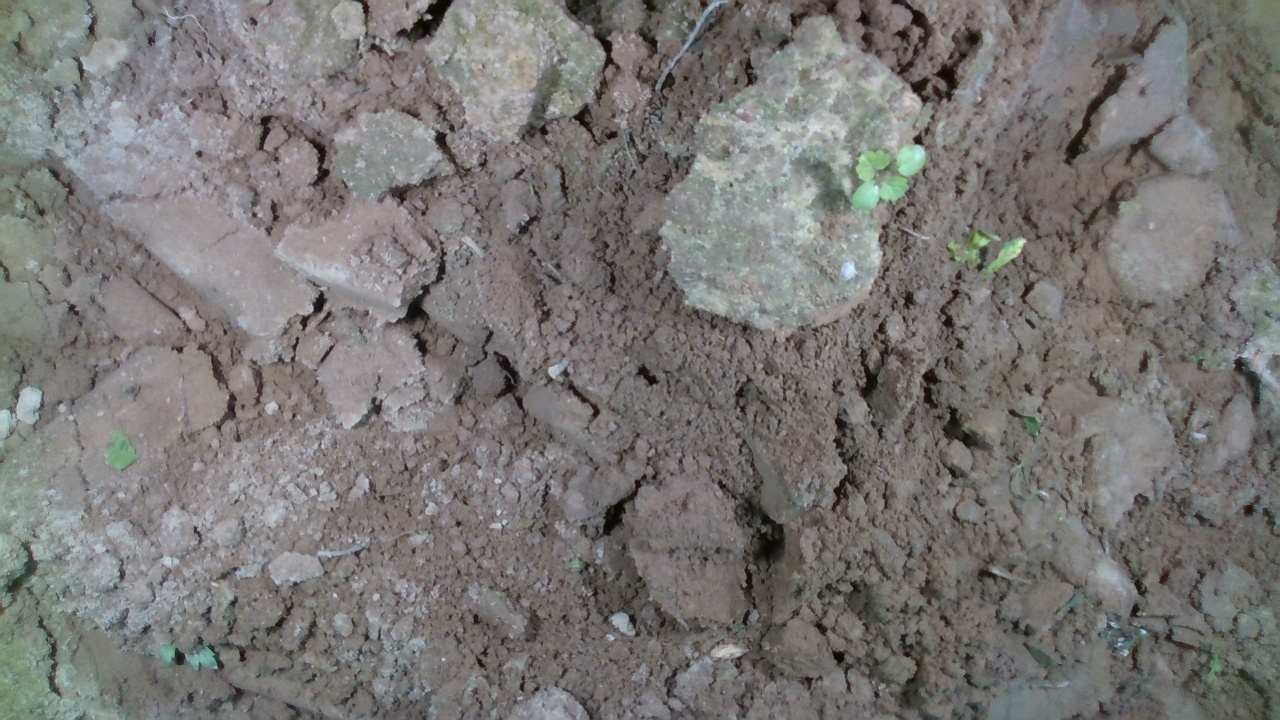weed: (848, 143, 926, 212)
